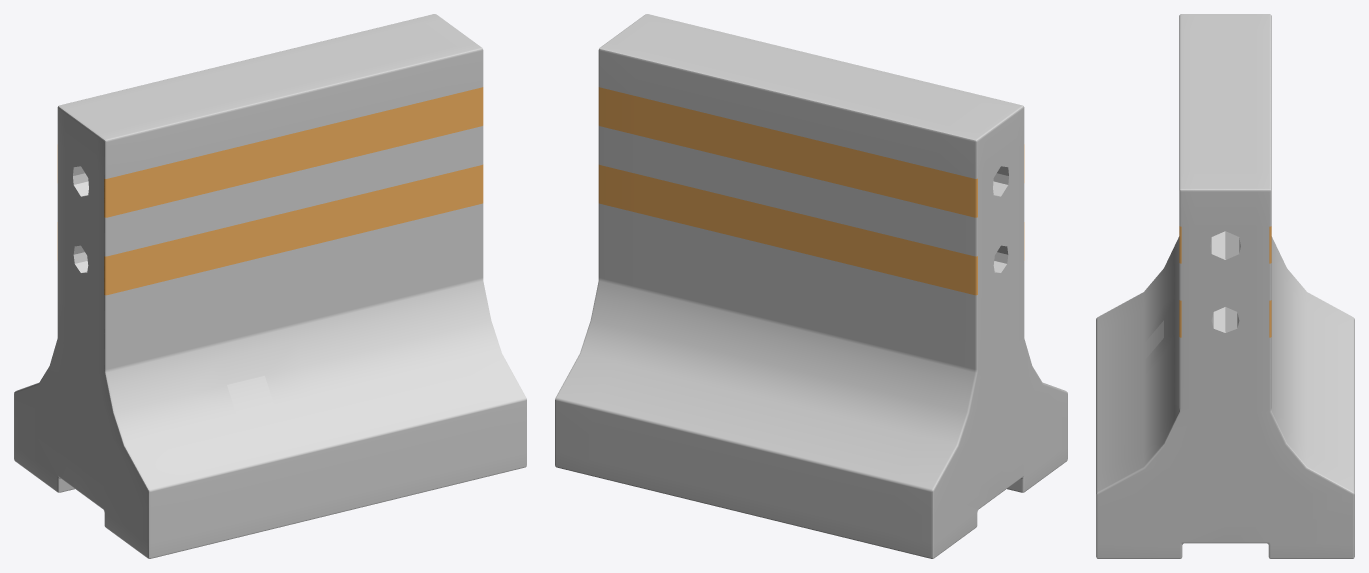
File: white_base_orange_line.fbx
The picture shows the model from 3 angles, left to right: view 1: azimuth 30°, elevation 25°; view 2: azimuth 150°, elevation 25°; view 3: azimuth 270°, elevation 25°; orthographic projection. The views are drawn at different scales.
Parts seen in each view (by area): view 1: pCube1; view 2: pCube1; view 3: pCube1.
Part boxes in pixels (x1,y1,x2,y2): pCube1: [14, 14, 526, 558]; pCube1: [555, 14, 1067, 558]; pCube1: [1096, 14, 1354, 558].
Size of the model in its own units: 6.05 by 5.91 by 3.75.
